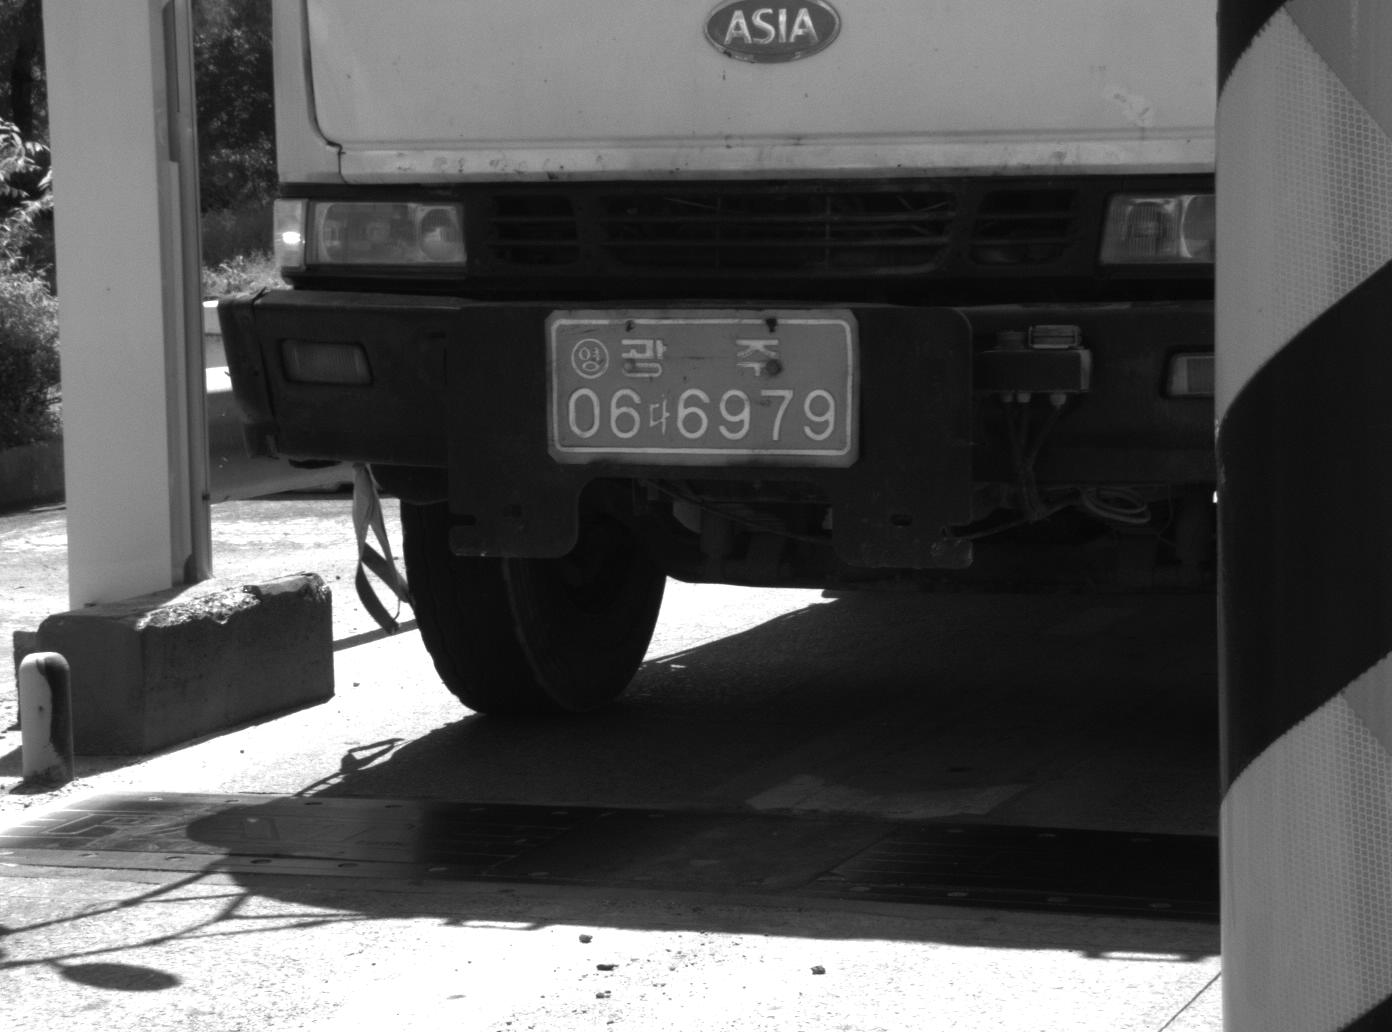car: (214, 1, 1217, 715)
plate: (542, 306, 863, 469)
